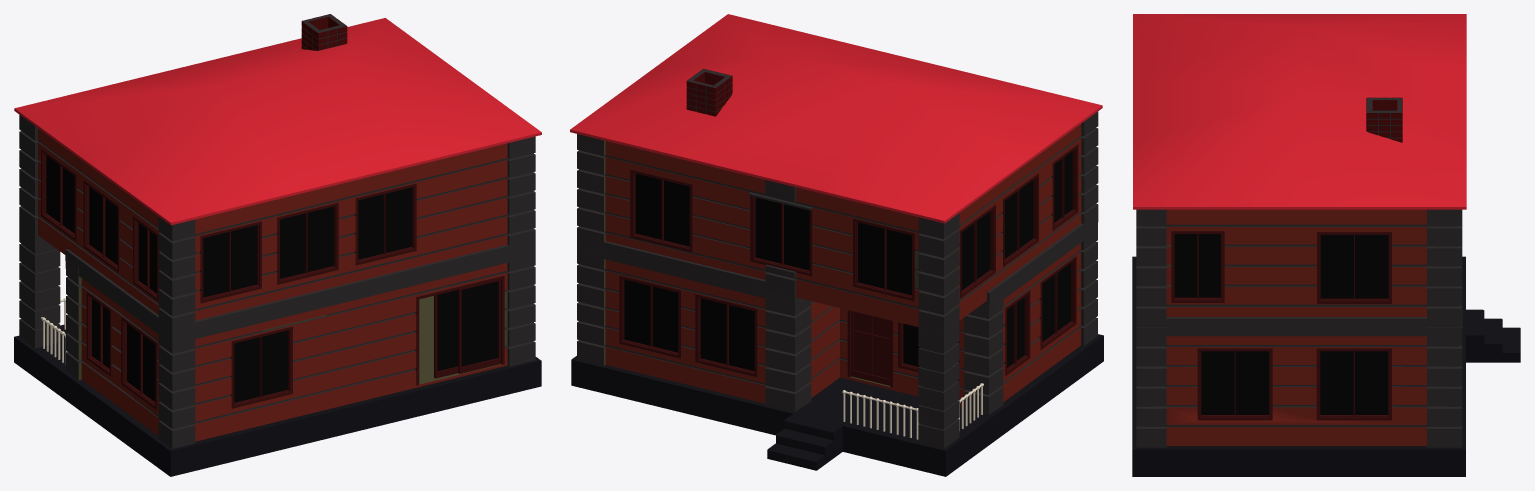
Rendered from Farmhaus.FBX.
3 views of the same model, side by side, from view 1: azimuth 30°, elevation 25°; view 2: azimuth 150°, elevation 25°; view 3: azimuth 270°, elevation 25° (orthographic). The views are drawn at different scales.
Visible parts, largest first — view 1: Erdgeschoss, Ebene001, Quader001, Schiebe_Tür001, Rahmen_Fenster011, Rahmen_Fenster009, Rahmen_Fenster012, Rahmen_Fenster010, Rahmen_Fenster007, Rahmen_Fenster008, Rahmen_Fenster014, Rahmen_Fenster018 (+3 smaller); view 2: Erdgeschoss, Ebene001, Quader001, Rahmen_Fenster002, Rahmen_Fenster015, Rahmen_Fenster017, Rahmen_Fenster003, Rahmen_Fenster016, Drehflügel_Tür001, Linie001, Rahmen_Fenster008, Rahmen_Fenster007 (+7 smaller); view 3: Ebene001, Erdgeschoss, Quader001, Rahmen_Fenster004, Rahmen_Fenster005, Rahmen_Fenster006, Rahmen_Fenster013, Linie001, Quader003.
Part boxes in pixels (x1,y1,x2,y2): Erdgeschoss: [19, 115, 535, 448]; Ebene001: [14, 18, 541, 225]; Quader001: [14, 324, 541, 476]; Schiebe_Tür001: [415, 275, 504, 385]; Rahmen_Fenster011: [276, 202, 338, 284]; Rahmen_Fenster009: [230, 326, 292, 408]; Rahmen_Fenster012: [354, 183, 416, 265]; Rahmen_Fenster010: [200, 221, 261, 303]; Rahmen_Fenster007: [83, 180, 120, 272]; Rahmen_Fenster008: [121, 317, 158, 409]; Rahmen_Fenster014: [41, 149, 77, 241]; Rahmen_Fenster018: [133, 216, 158, 301]; Erdgeschoss: [577, 111, 1098, 448]; Ebene001: [570, 14, 1102, 223]; Quader001: [571, 334, 1103, 476]; Rahmen_Fenster002: [695, 294, 757, 376]; Rahmen_Fenster015: [630, 169, 692, 252]; Rahmen_Fenster017: [853, 218, 915, 301]; Rahmen_Fenster003: [619, 275, 681, 358]; Rahmen_Fenster016: [750, 196, 812, 276]; Drehflügel_Tür001: [847, 310, 893, 387]; Linie001: [767, 414, 842, 470]; Rahmen_Fenster008: [1039, 256, 1076, 349]; Rahmen_Fenster007: [1001, 173, 1038, 266]; Ebene001: [1133, 14, 1466, 209]; Erdgeschoss: [1136, 209, 1462, 447]; Quader001: [1132, 256, 1465, 476]; Rahmen_Fenster004: [1316, 348, 1391, 420]; Rahmen_Fenster005: [1197, 348, 1272, 420]; Rahmen_Fenster006: [1317, 232, 1391, 303]; Rahmen_Fenster013: [1171, 231, 1224, 302]; Linie001: [1466, 309, 1520, 362]; Quader003: [1366, 97, 1402, 142].
Bounding box in the file's own units: 759 × 589 × 645.
